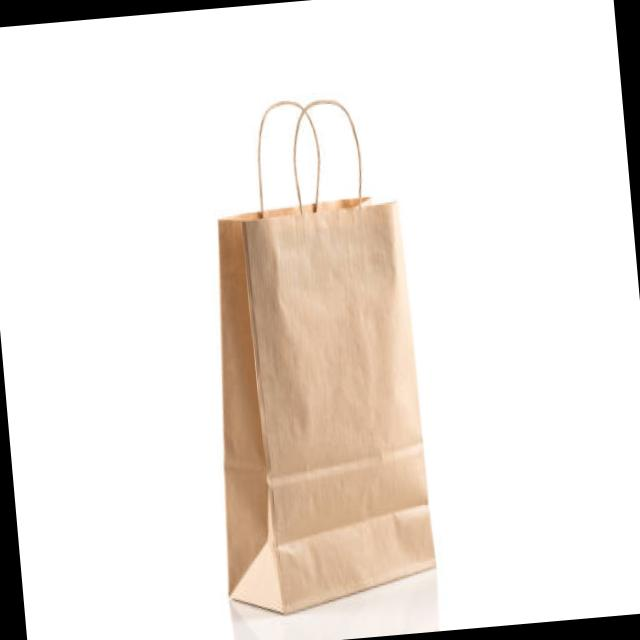electronic: (185, 90, 438, 618)
